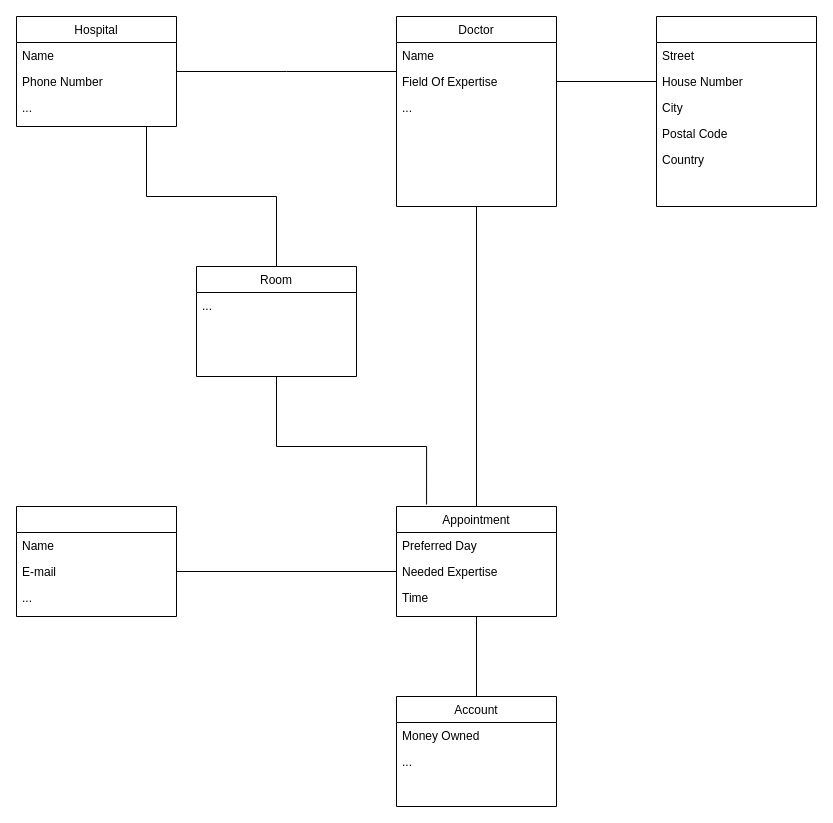
The diagram is 833 pixels wide and 823 high, and some of its shapes have lost their labels. The shapes that lost their labels are listed below. From the top down, each one's box as (x1, y1, x2, y2) in pixels, then its label:
(656, 16, 816, 206): Address
(16, 506, 176, 616): Patient
